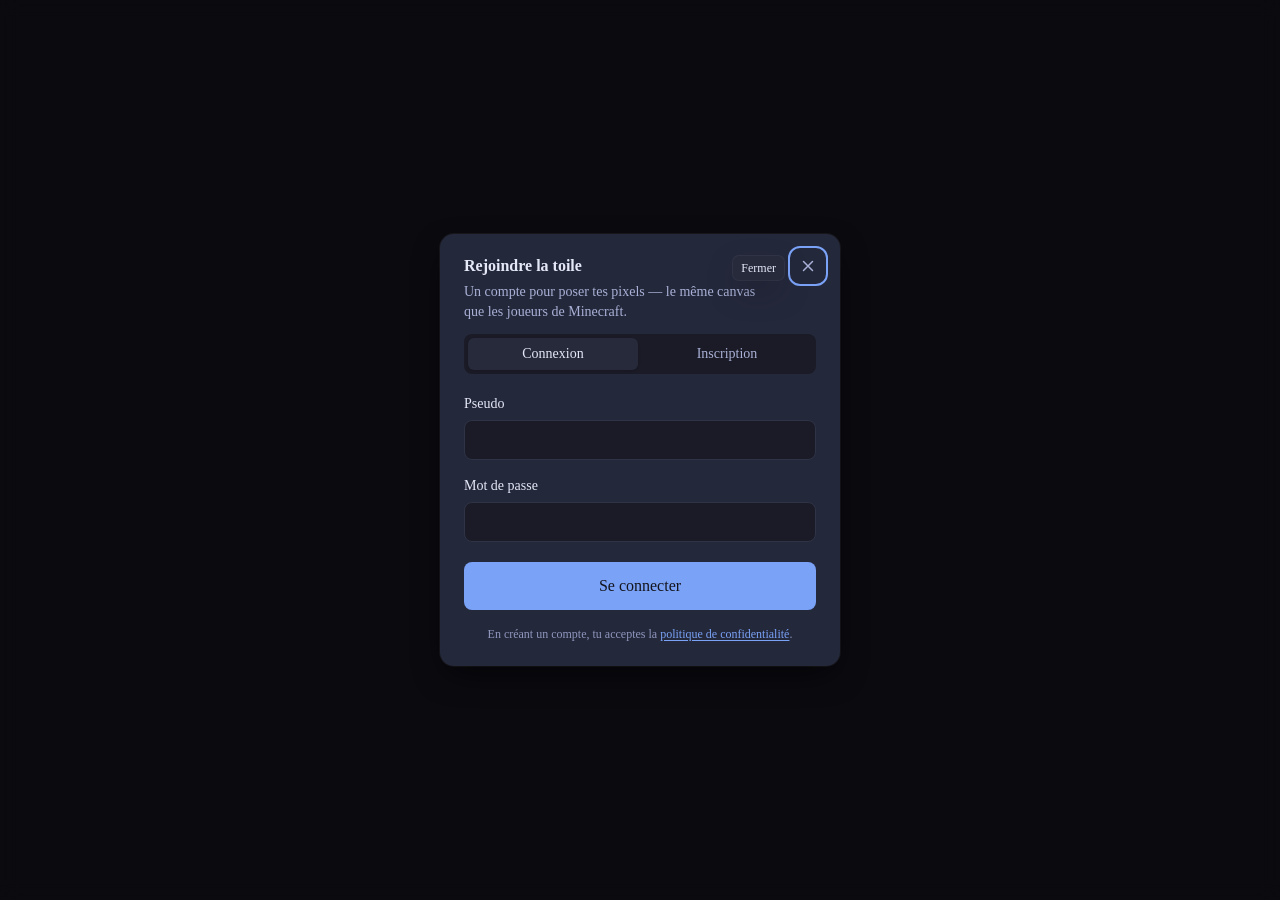
Test: <AuthDialog /> › affiche l'erreur du serveur comme alerte
Type "Alice" into the field labelled "Pseudo".
click(640, 440); type("Alice")  # box [464,420,816,460]
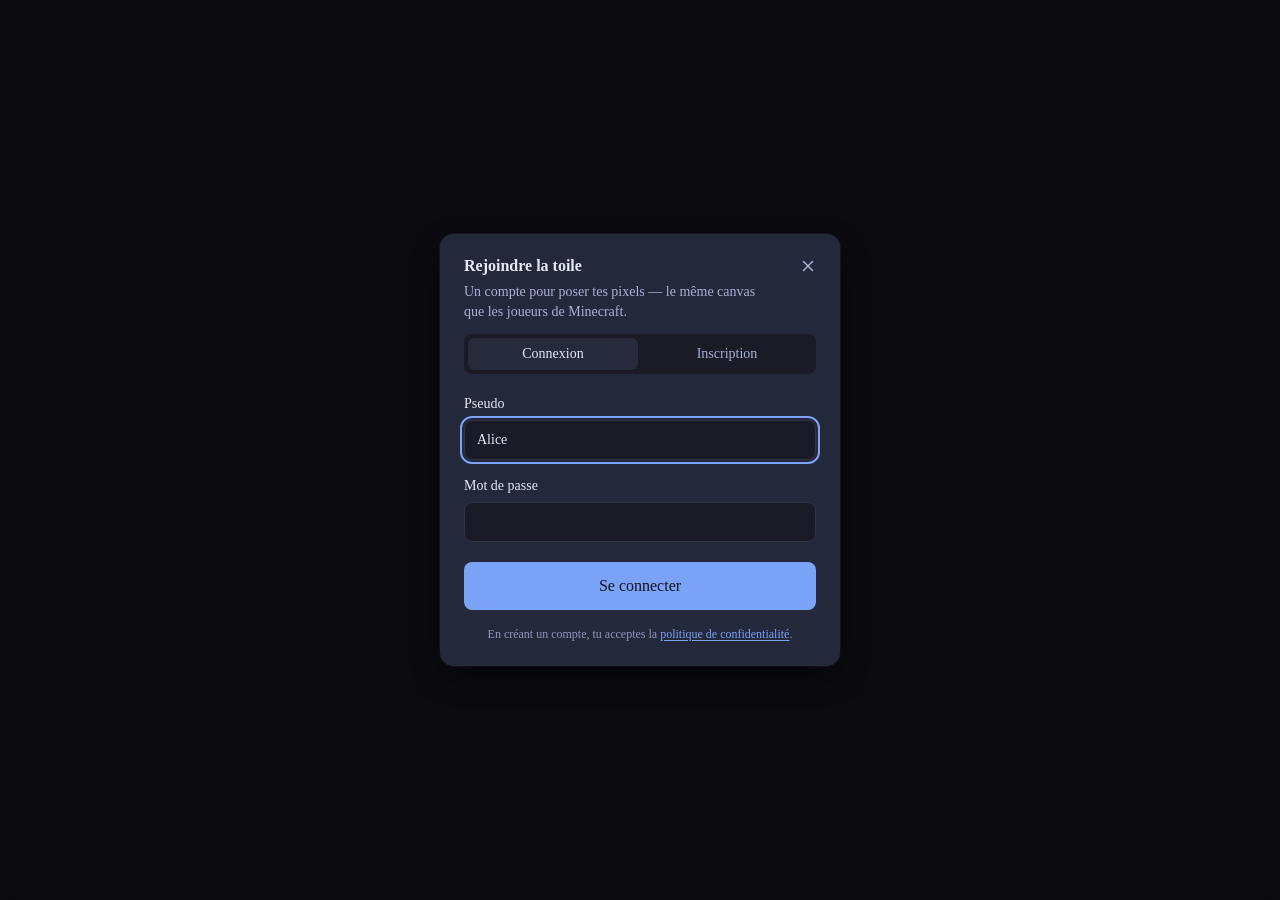
Type "mauvais1" into the password field labelled "Mot de passe".
click(640, 522); type("mauvais1")  # box [464,502,816,542]
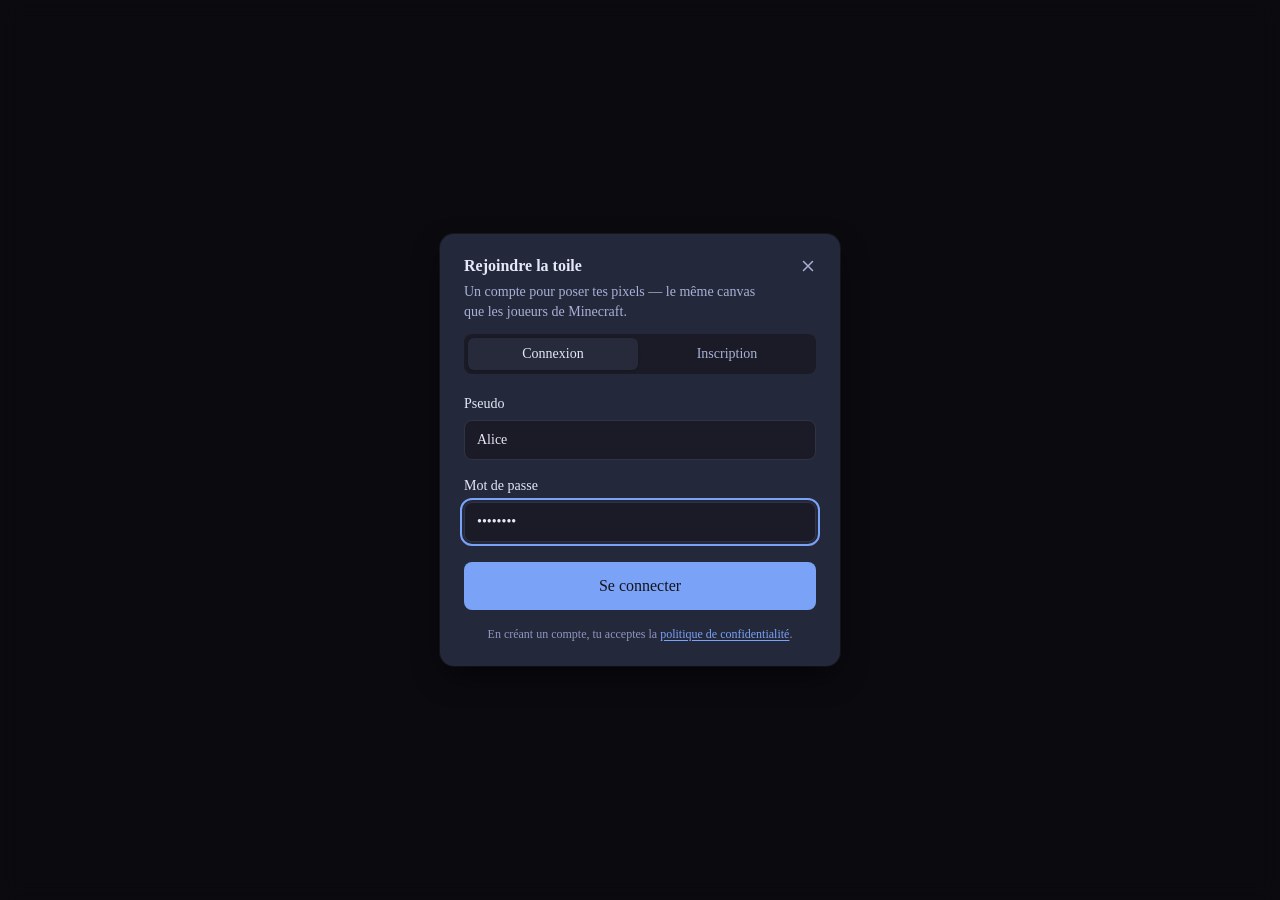
Click the button "Se connecter".
click(640, 586)  # box [464,562,816,610]
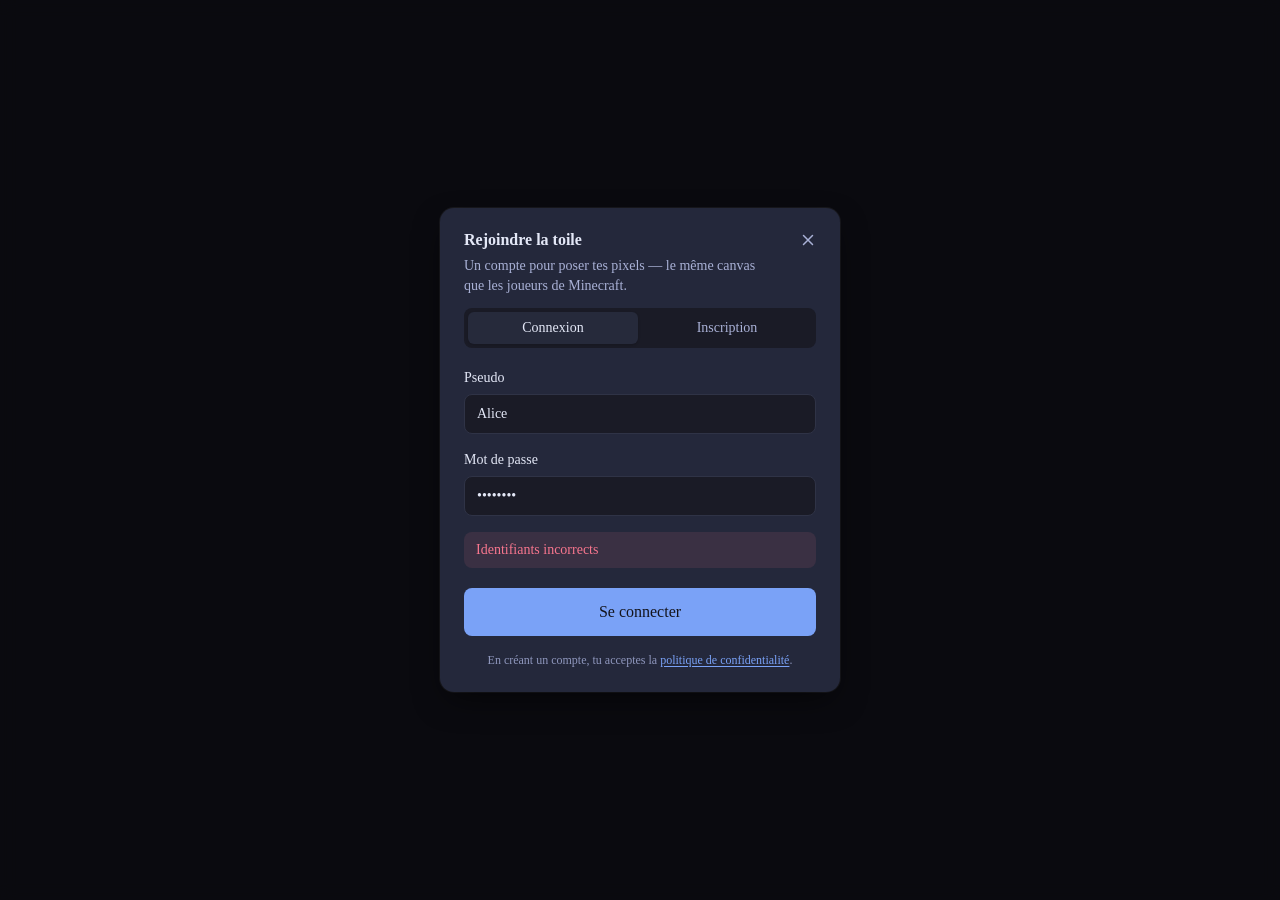
Result: the message reads "Identifiants incorrects" at [476,542,598,557]
